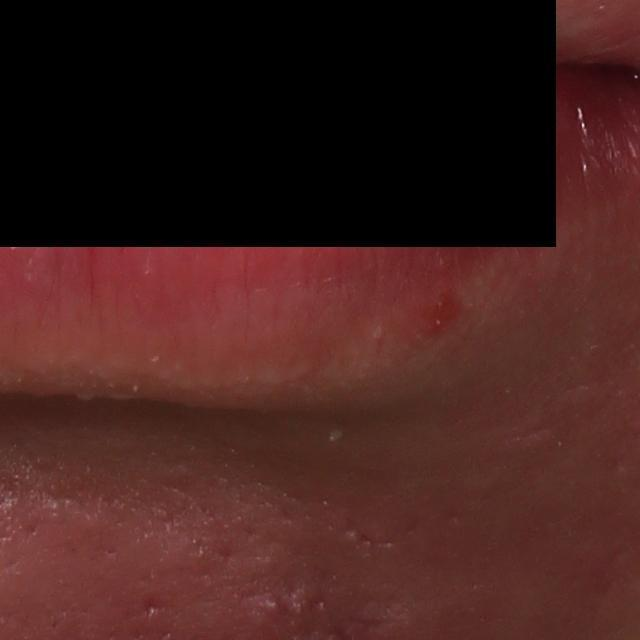papule: (411, 281, 477, 340)
